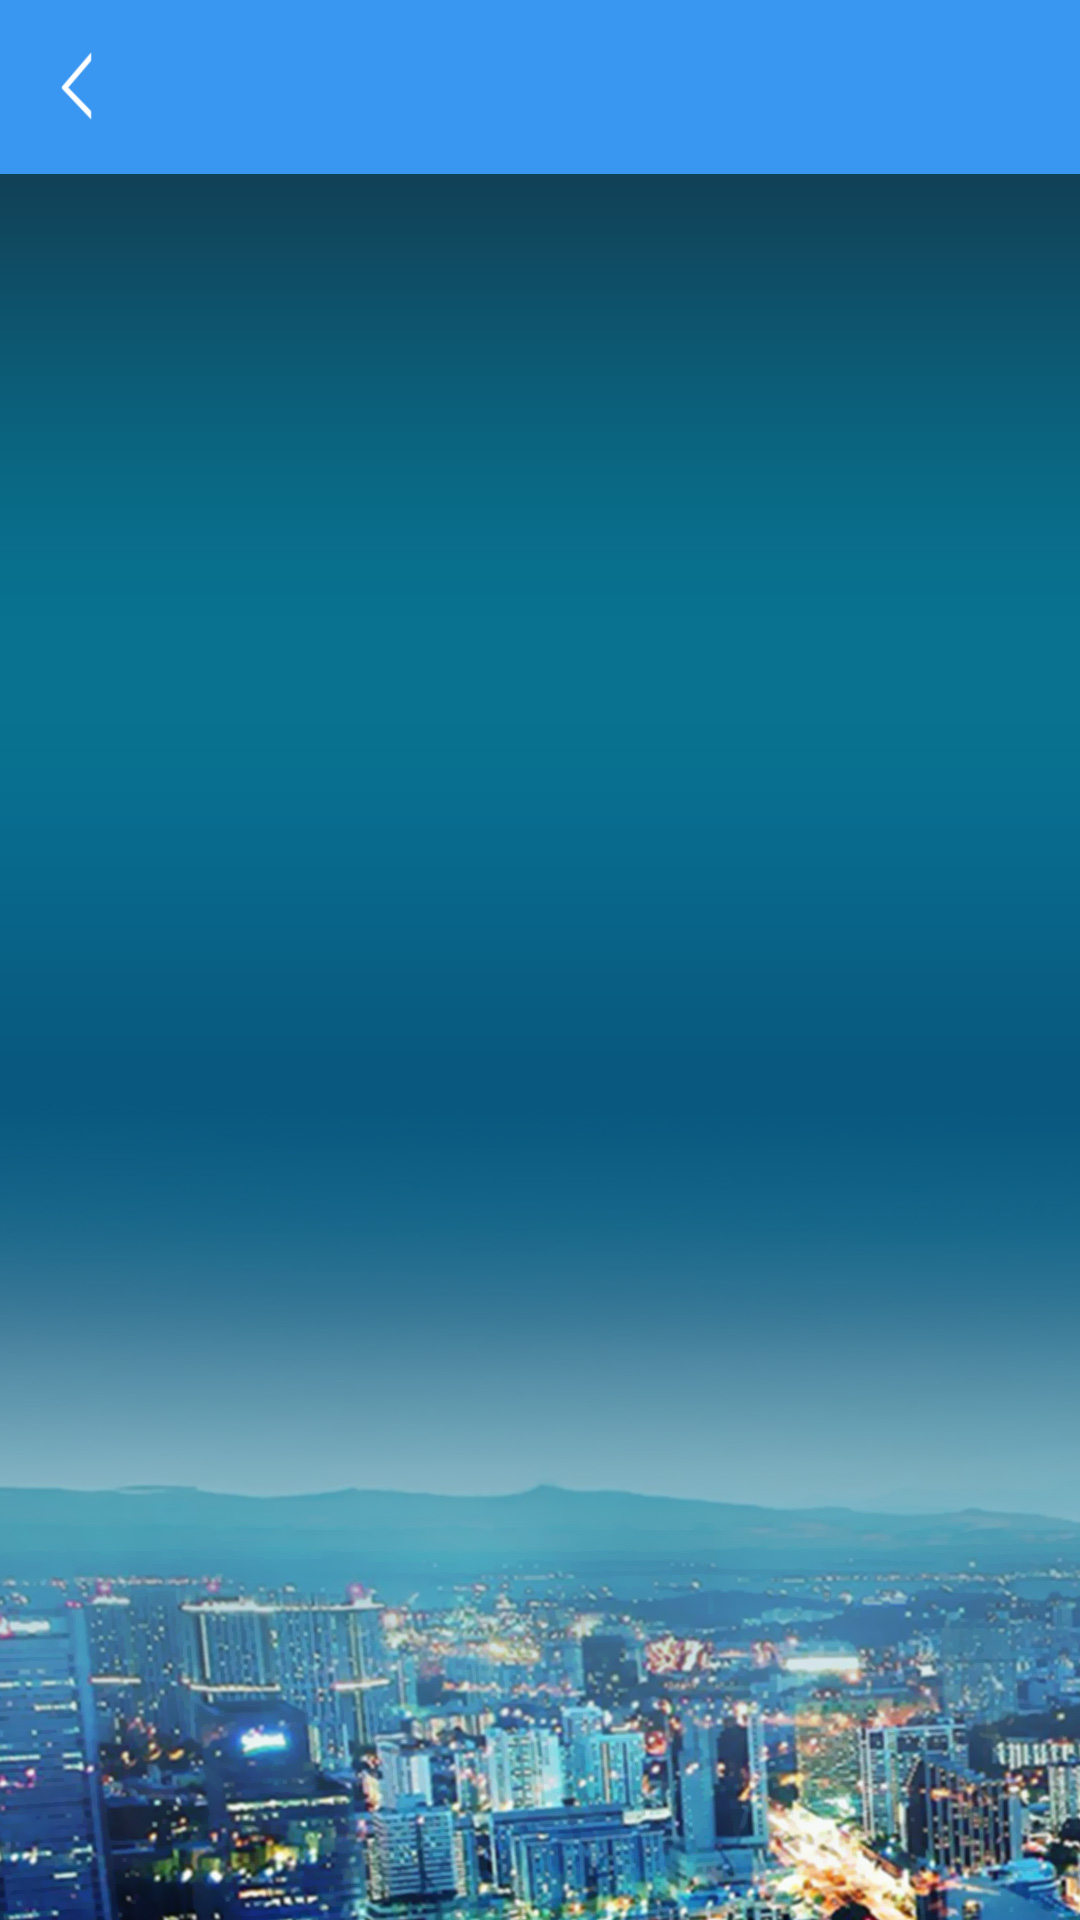

Where icons sit on this 1080x1920 app screen, as rect(x1, y1, x2, y2):
arrows left: rect(61, 53, 92, 119)
